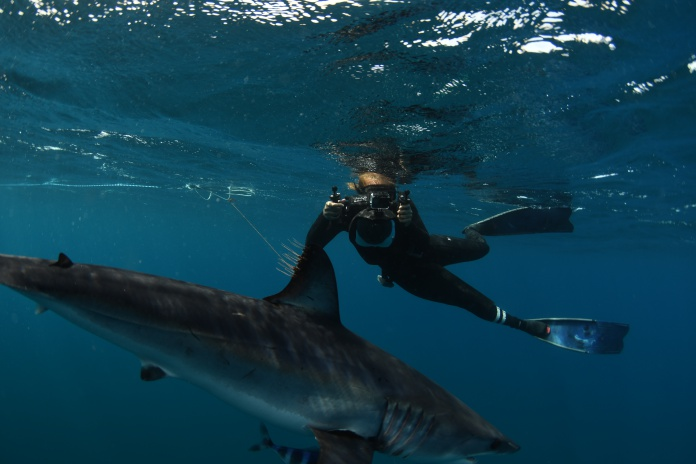Mako: (1, 231, 536, 464)
